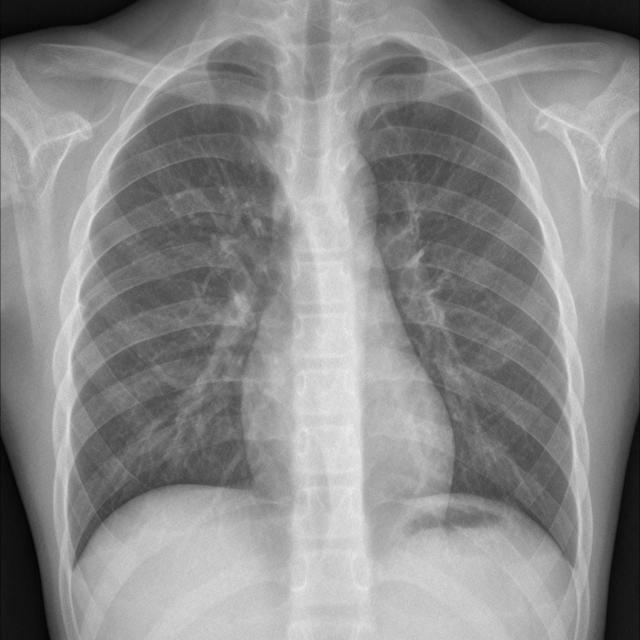no-pneumonia: (68, 40, 290, 557), (360, 44, 580, 564)
